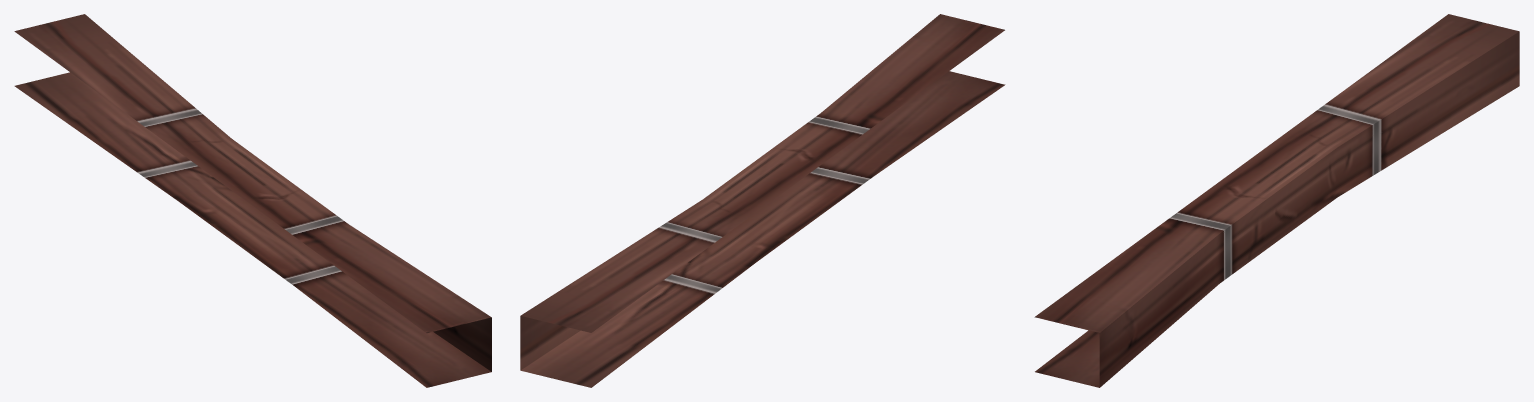
The model's file is TopPillar.fbx.
The picture shows the model from 3 angles, left to right: view 1: azimuth 30°, elevation 25°; view 2: azimuth 150°, elevation 25°; view 3: azimuth 330°, elevation 25°; orthographic projection.
Visible parts, largest first — view 1: polySurface5; view 2: polySurface5; view 3: polySurface5.
Boxes of the visible parts, <box> form: polySurface5: <box>14,14,491,387</box>; polySurface5: <box>520,14,1005,387</box>; polySurface5: <box>1034,14,1519,387</box>.
Bounding box in the file's own units: 0.6598 × 0.4871 × 6.66.
